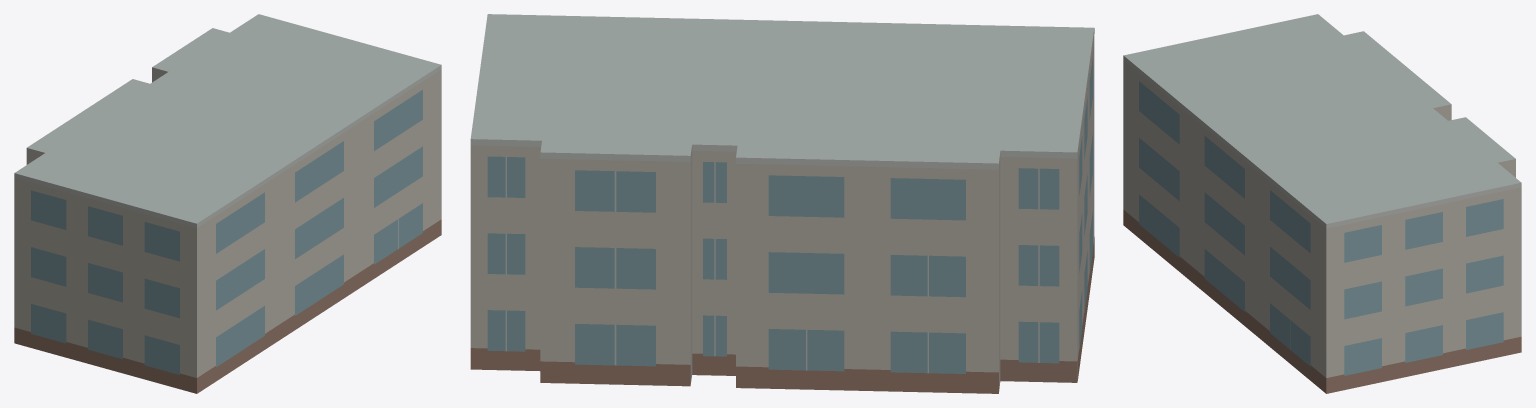
The model's file is survey-upis-32841025.glb.
The picture shows the model from 3 angles, left to right: view 1: azimuth 30°, elevation 25°; view 2: azimuth 150°, elevation 25°; view 3: azimuth 270°, elevation 25°; orthographic projection. The views are drawn at different scales.
Parts seen in each view (by area): view 1: survey-upis-32841025.tmp; view 2: survey-upis-32841025.tmp; view 3: survey-upis-32841025.tmp.
Boxes of the visible parts, x1=… form: survey-upis-32841025.tmp: x1=14, y1=14, x2=441, y2=393; survey-upis-32841025.tmp: x1=470, y1=14, x2=1094, y2=393; survey-upis-32841025.tmp: x1=1123, y1=14, x2=1521, y2=393.
Size of the model in its own units: 24.29 by 9.15 by 19.45.
